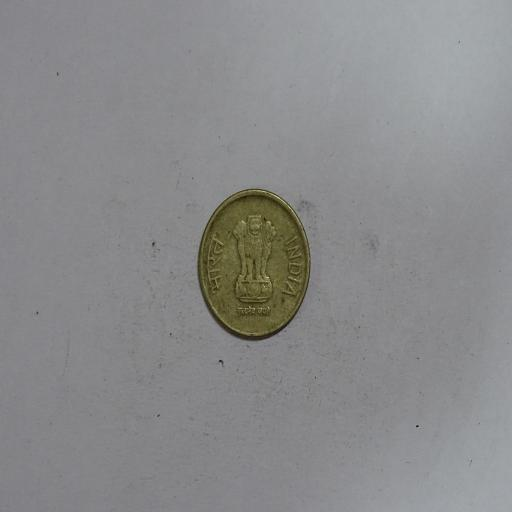rupee5: (194, 188, 313, 341)
